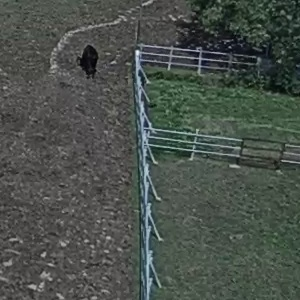cow: (76, 39, 105, 88)
